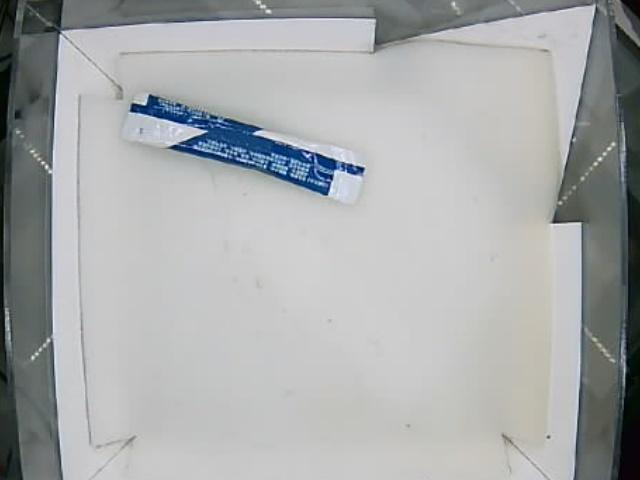Medicine: (119, 89, 368, 204)
